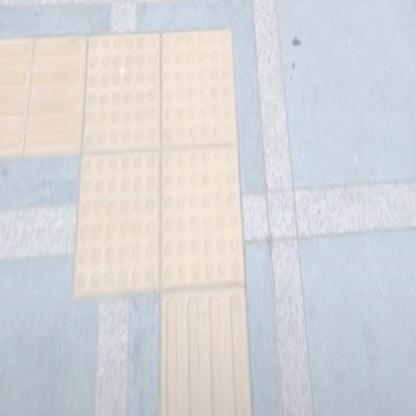podotacti: (47, 17, 280, 330), (158, 295, 257, 415), (0, 36, 79, 162)
